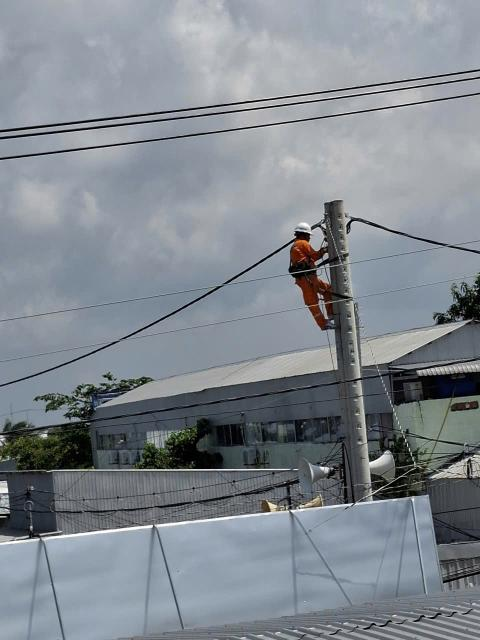gloves: (320, 246, 334, 257)
harness: (291, 265, 323, 280)
helmet: (288, 221, 316, 238)
shoes: (319, 318, 340, 332), (324, 314, 338, 321)
